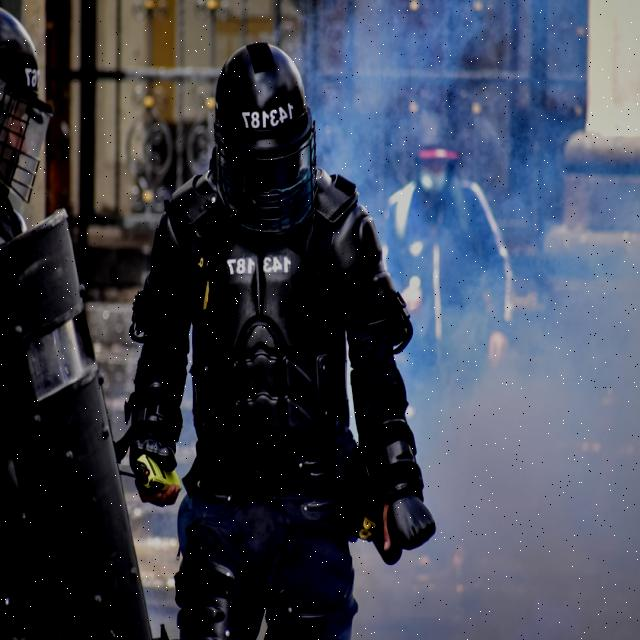police: (93, 23, 442, 634)
